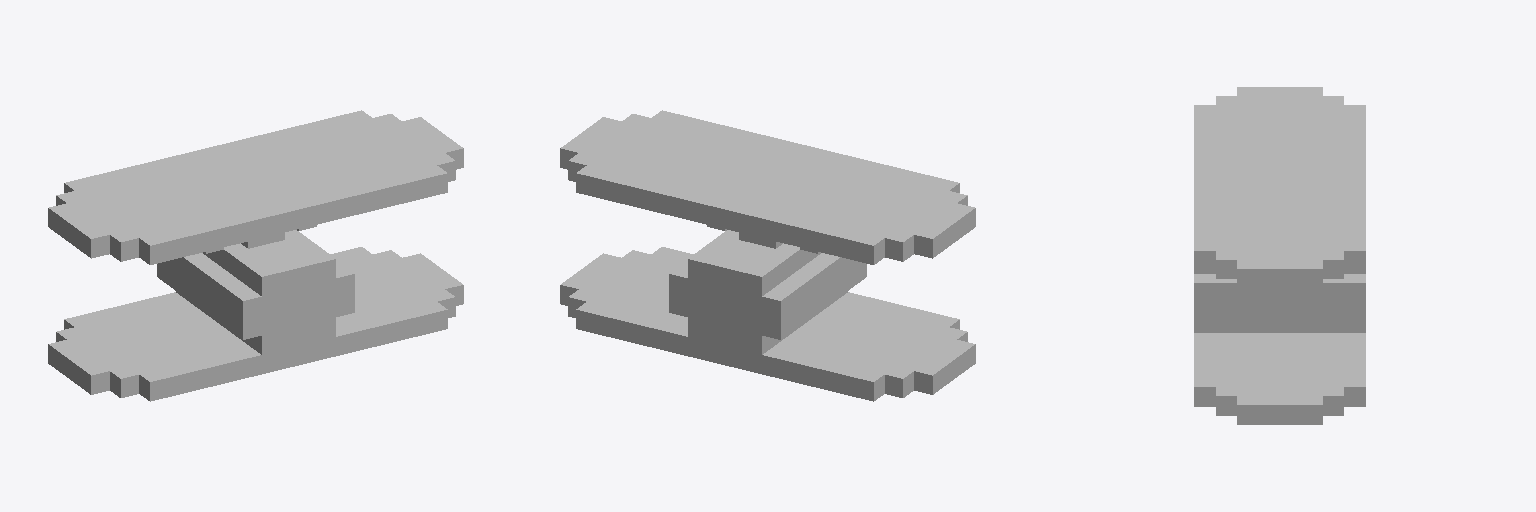
Rendered from Wing.obj.
The picture shows the model from 3 angles: view 1: azimuth 30°, elevation 25°; view 2: azimuth 150°, elevation 25°; view 3: azimuth 270°, elevation 25°; orthographic projection.
Bounding box in the file's own units: 20 × 8 × 8.